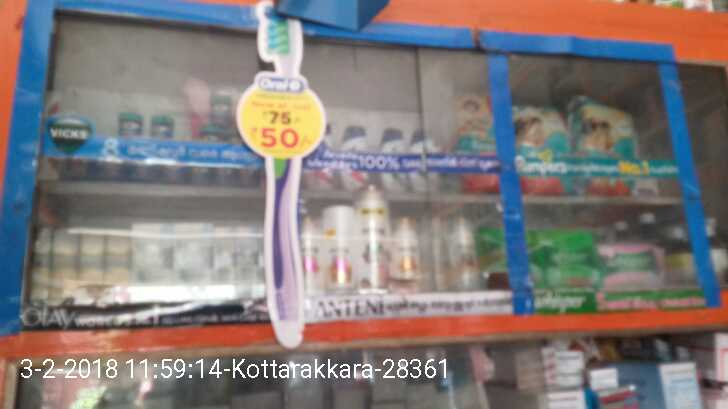vicks: (114, 78, 231, 143)
